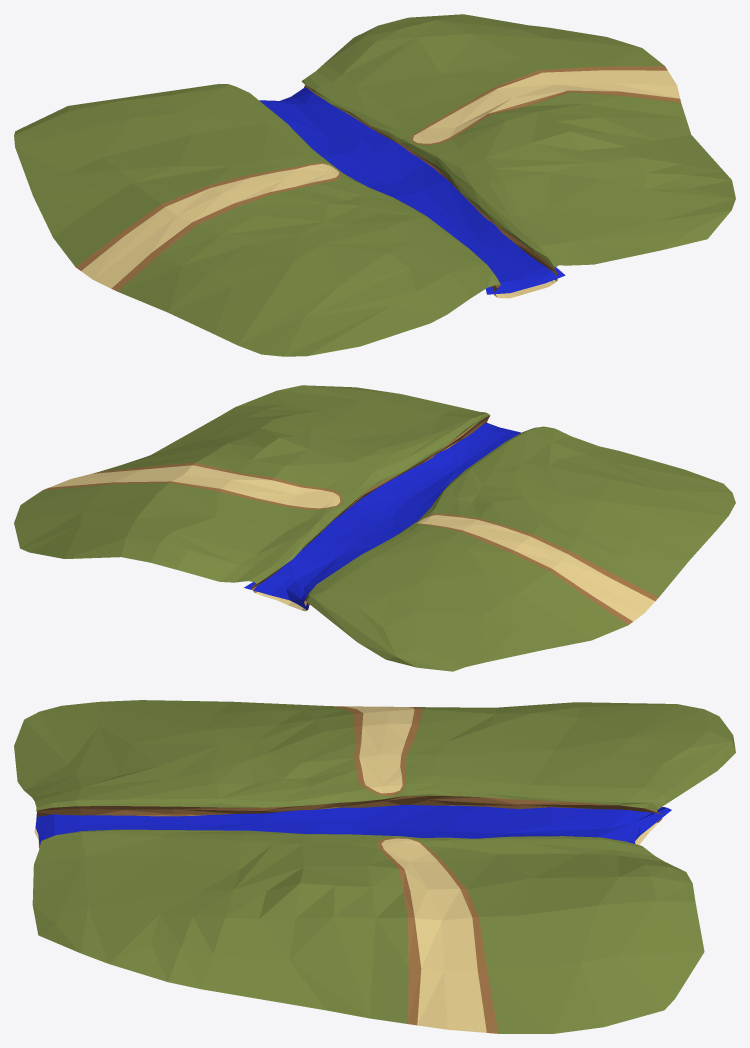
File: Terrain_River_Intersection-01.FBX
The picture shows the model from 3 angles, top to bottom: view 1: azimuth 30°, elevation 25°; view 2: azimuth 150°, elevation 25°; view 3: azimuth 270°, elevation 25°; orthographic projection. The views are drawn at different scales.
Parts seen in each view (by area): view 1: Terrain_River_Intersection-01; view 2: Terrain_River_Intersection-01; view 3: Terrain_River_Intersection-01.
Boxes of the visible parts, x1,y1,x2,y2 form: Terrain_River_Intersection-01: [14, 14, 735, 356]; Terrain_River_Intersection-01: [14, 385, 735, 671]; Terrain_River_Intersection-01: [14, 700, 735, 1033].
Size of the model in its own units: 6935 by 691 by 5947.
Materials: 2 (1 with a texture image).
